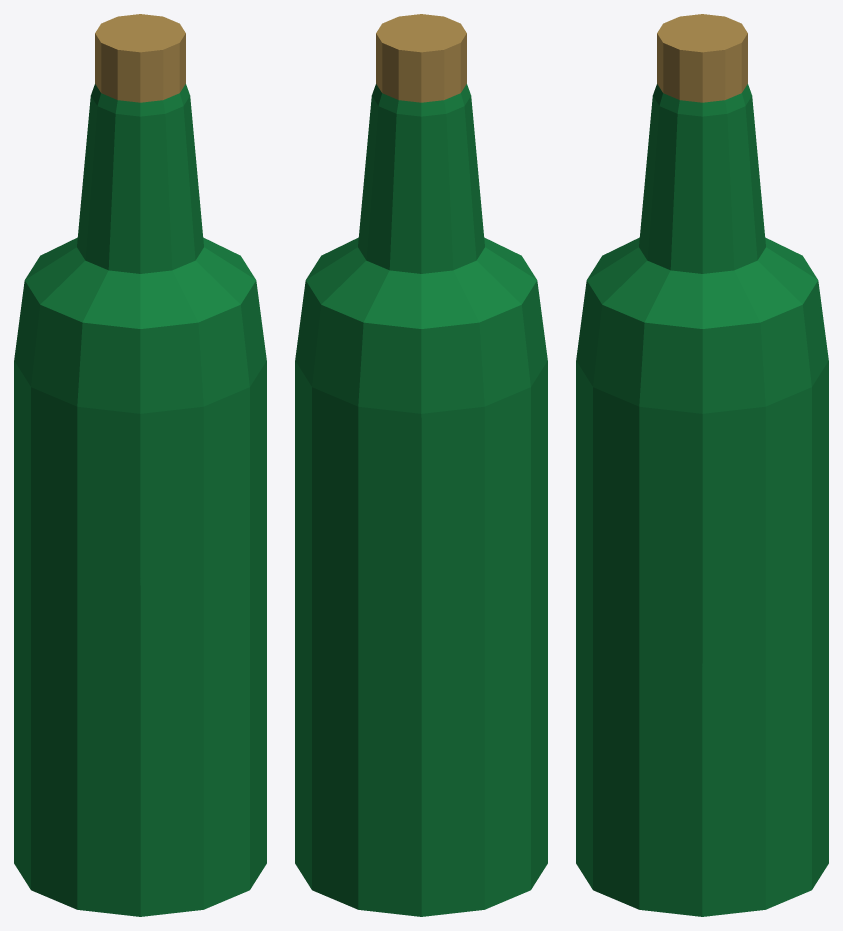
The model's file is bottle.fbx.
3 renders of one model, left to right at view 1: azimuth 30°, elevation 25°; view 2: azimuth 150°, elevation 25°; view 3: azimuth 270°, elevation 25°, orthographic.
Visible parts, largest first — view 1: Cylinder; view 2: Cylinder; view 3: Cylinder.
Boxes of the visible parts, x1,y1,x2,y2 form: Cylinder: (14, 14, 266, 916); Cylinder: (295, 14, 547, 916); Cylinder: (576, 14, 828, 916).
Bounding box in the file's own units: 168 × 610 × 168.
